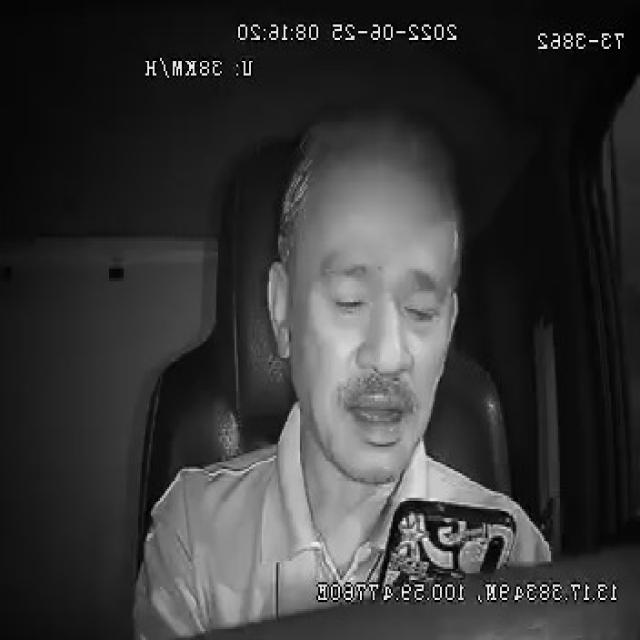phone: (376, 493, 518, 582)
